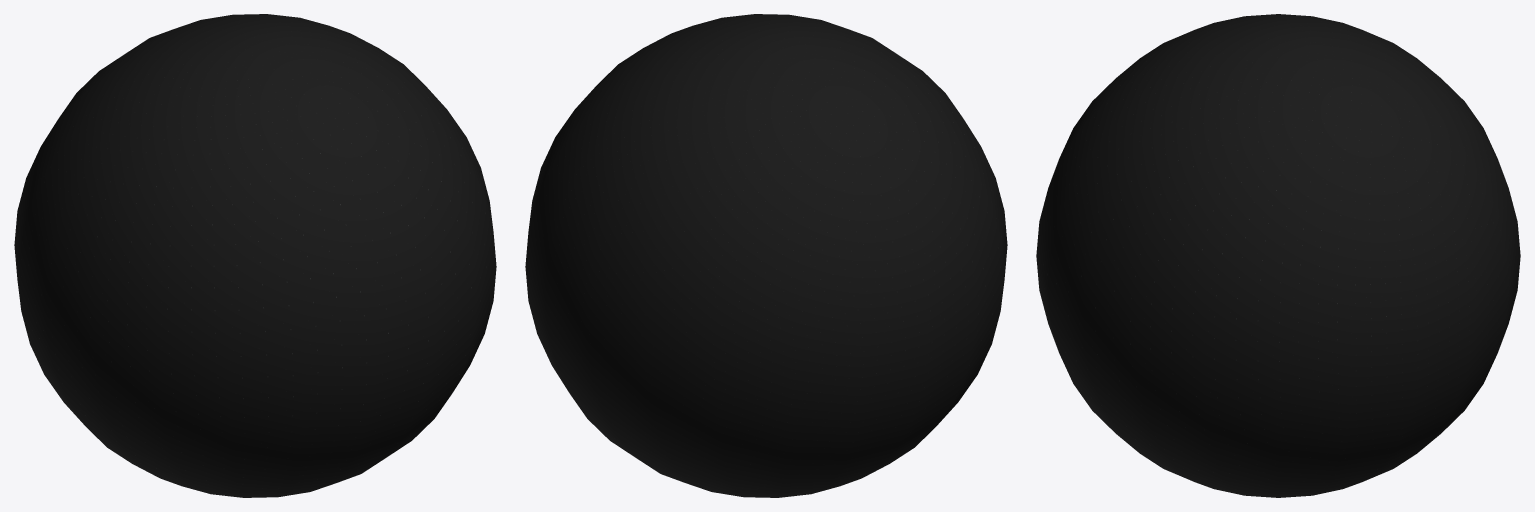
File: space_sphere_temp.fbx
3 views of the same model, side by side, from view 1: azimuth 30°, elevation 25°; view 2: azimuth 150°, elevation 25°; view 3: azimuth 270°, elevation 25° (orthographic).
Visible parts, largest first — view 1: planet_placeholder:pSphere3; view 2: planet_placeholder:pSphere3; view 3: planet_placeholder:pSphere3.
Part boxes in pixels (x1,y1,x2,y2): planet_placeholder:pSphere3: (14, 14, 496, 497); planet_placeholder:pSphere3: (525, 14, 1007, 497); planet_placeholder:pSphere3: (1036, 14, 1520, 497).
Bounding box in the file's own units: 3745 × 3745 × 3745.
